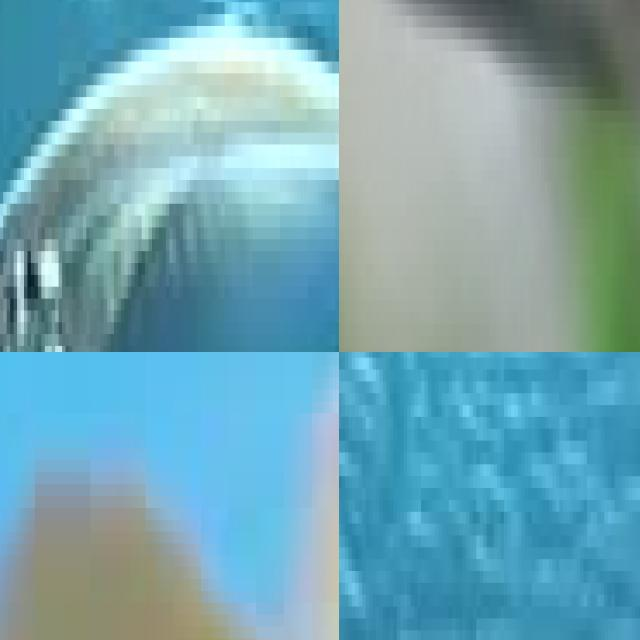fish: (0, 0, 339, 352), (0, 352, 339, 640)
